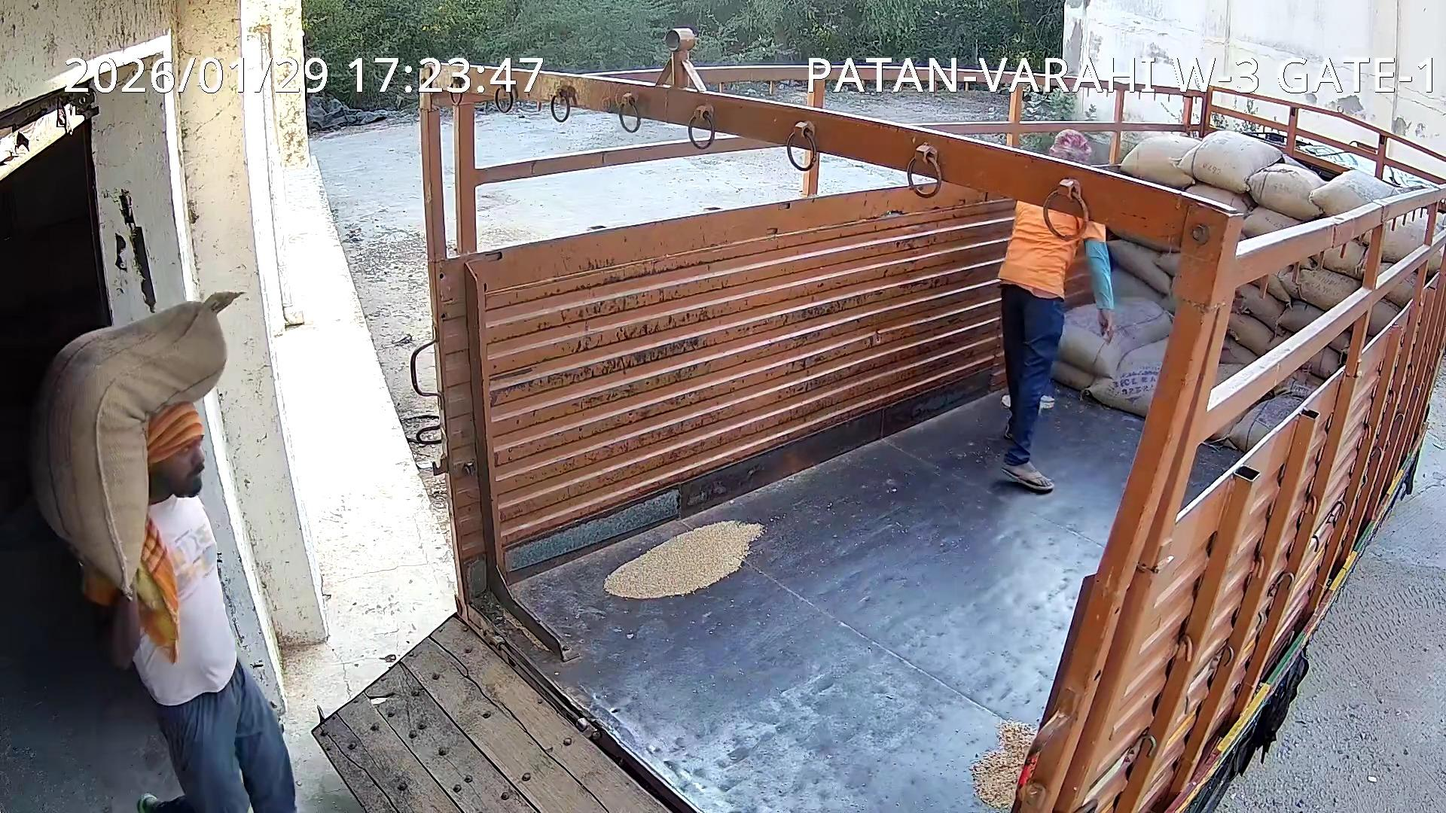Sack: (29, 291, 238, 604)
